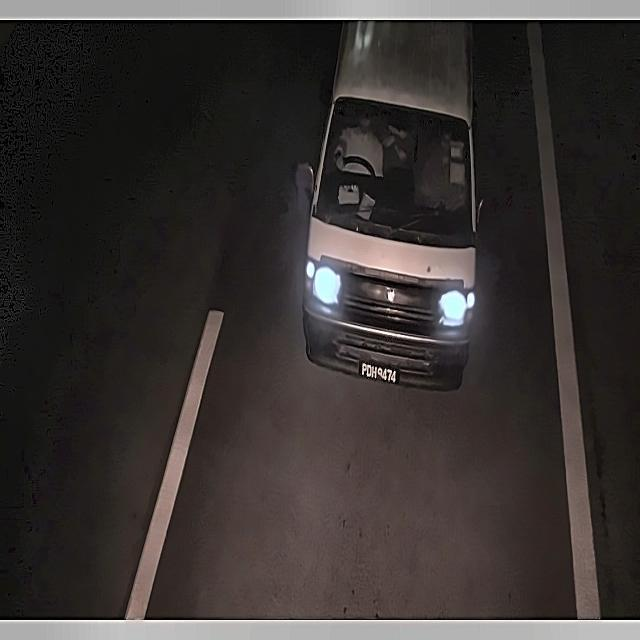car: (354, 353, 406, 389)
